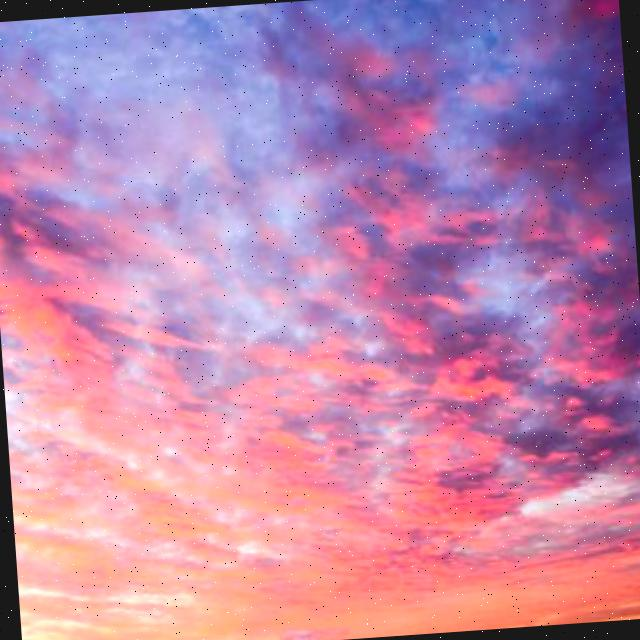Cc: (1, 8, 640, 614)
